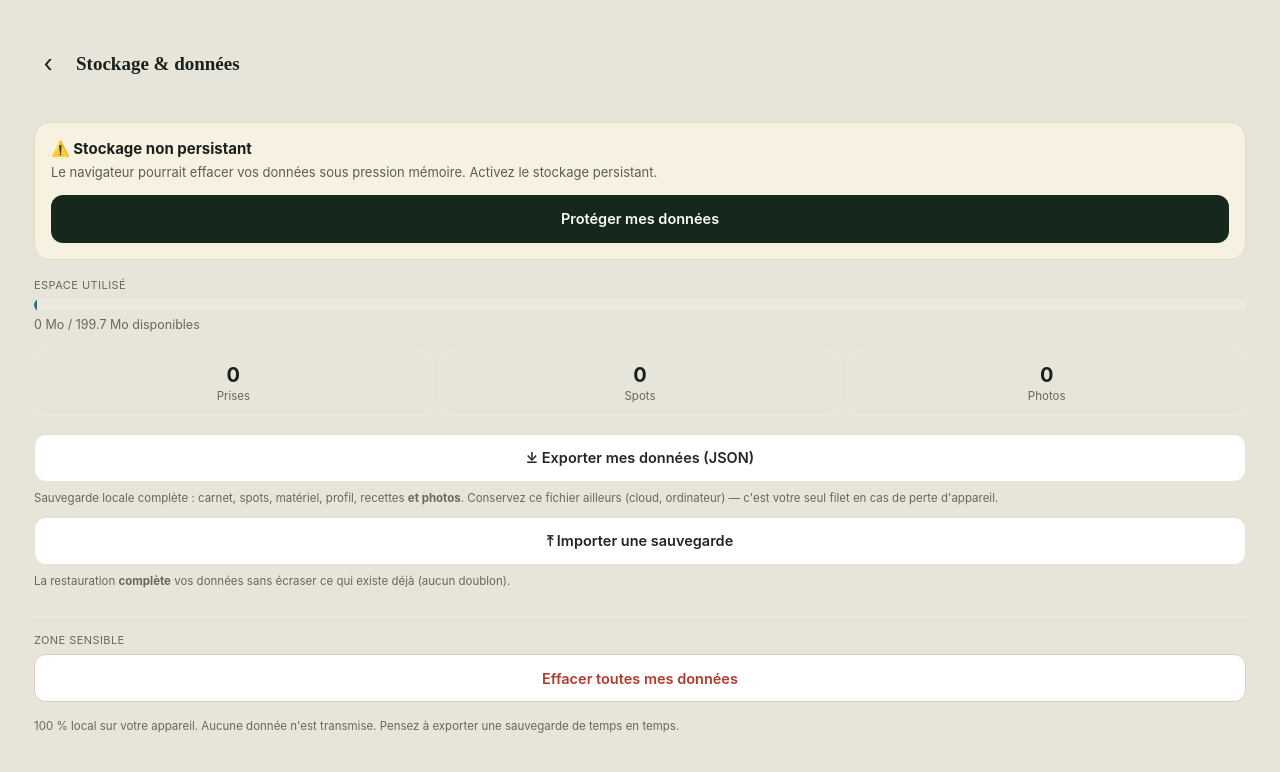
Test: Stockage — export amputé › nomme, en français, les données que l'appareil n'a pas rendues
Click the button "⤓ Exporter mes données (JSON)" at (640, 458), box [34,434,1246,482]
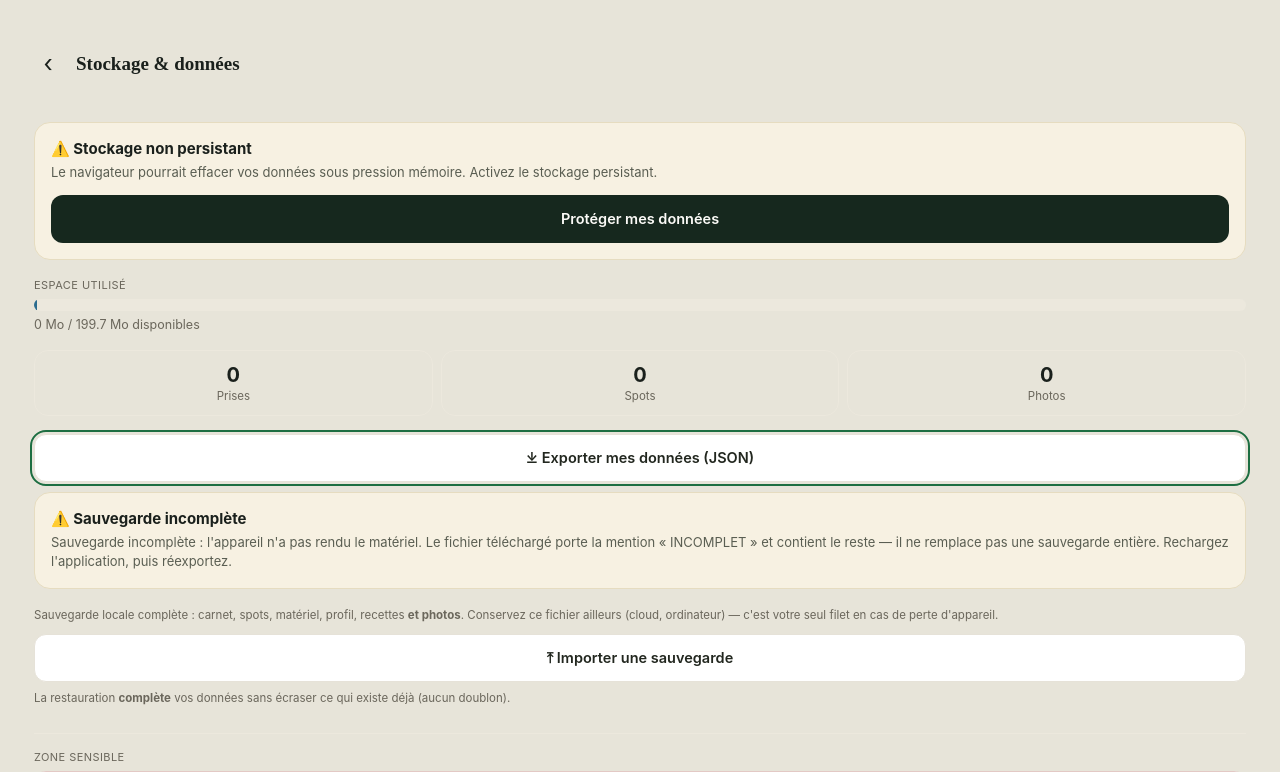
Expected: the message shows "matériel", [51,534,1229,569]
